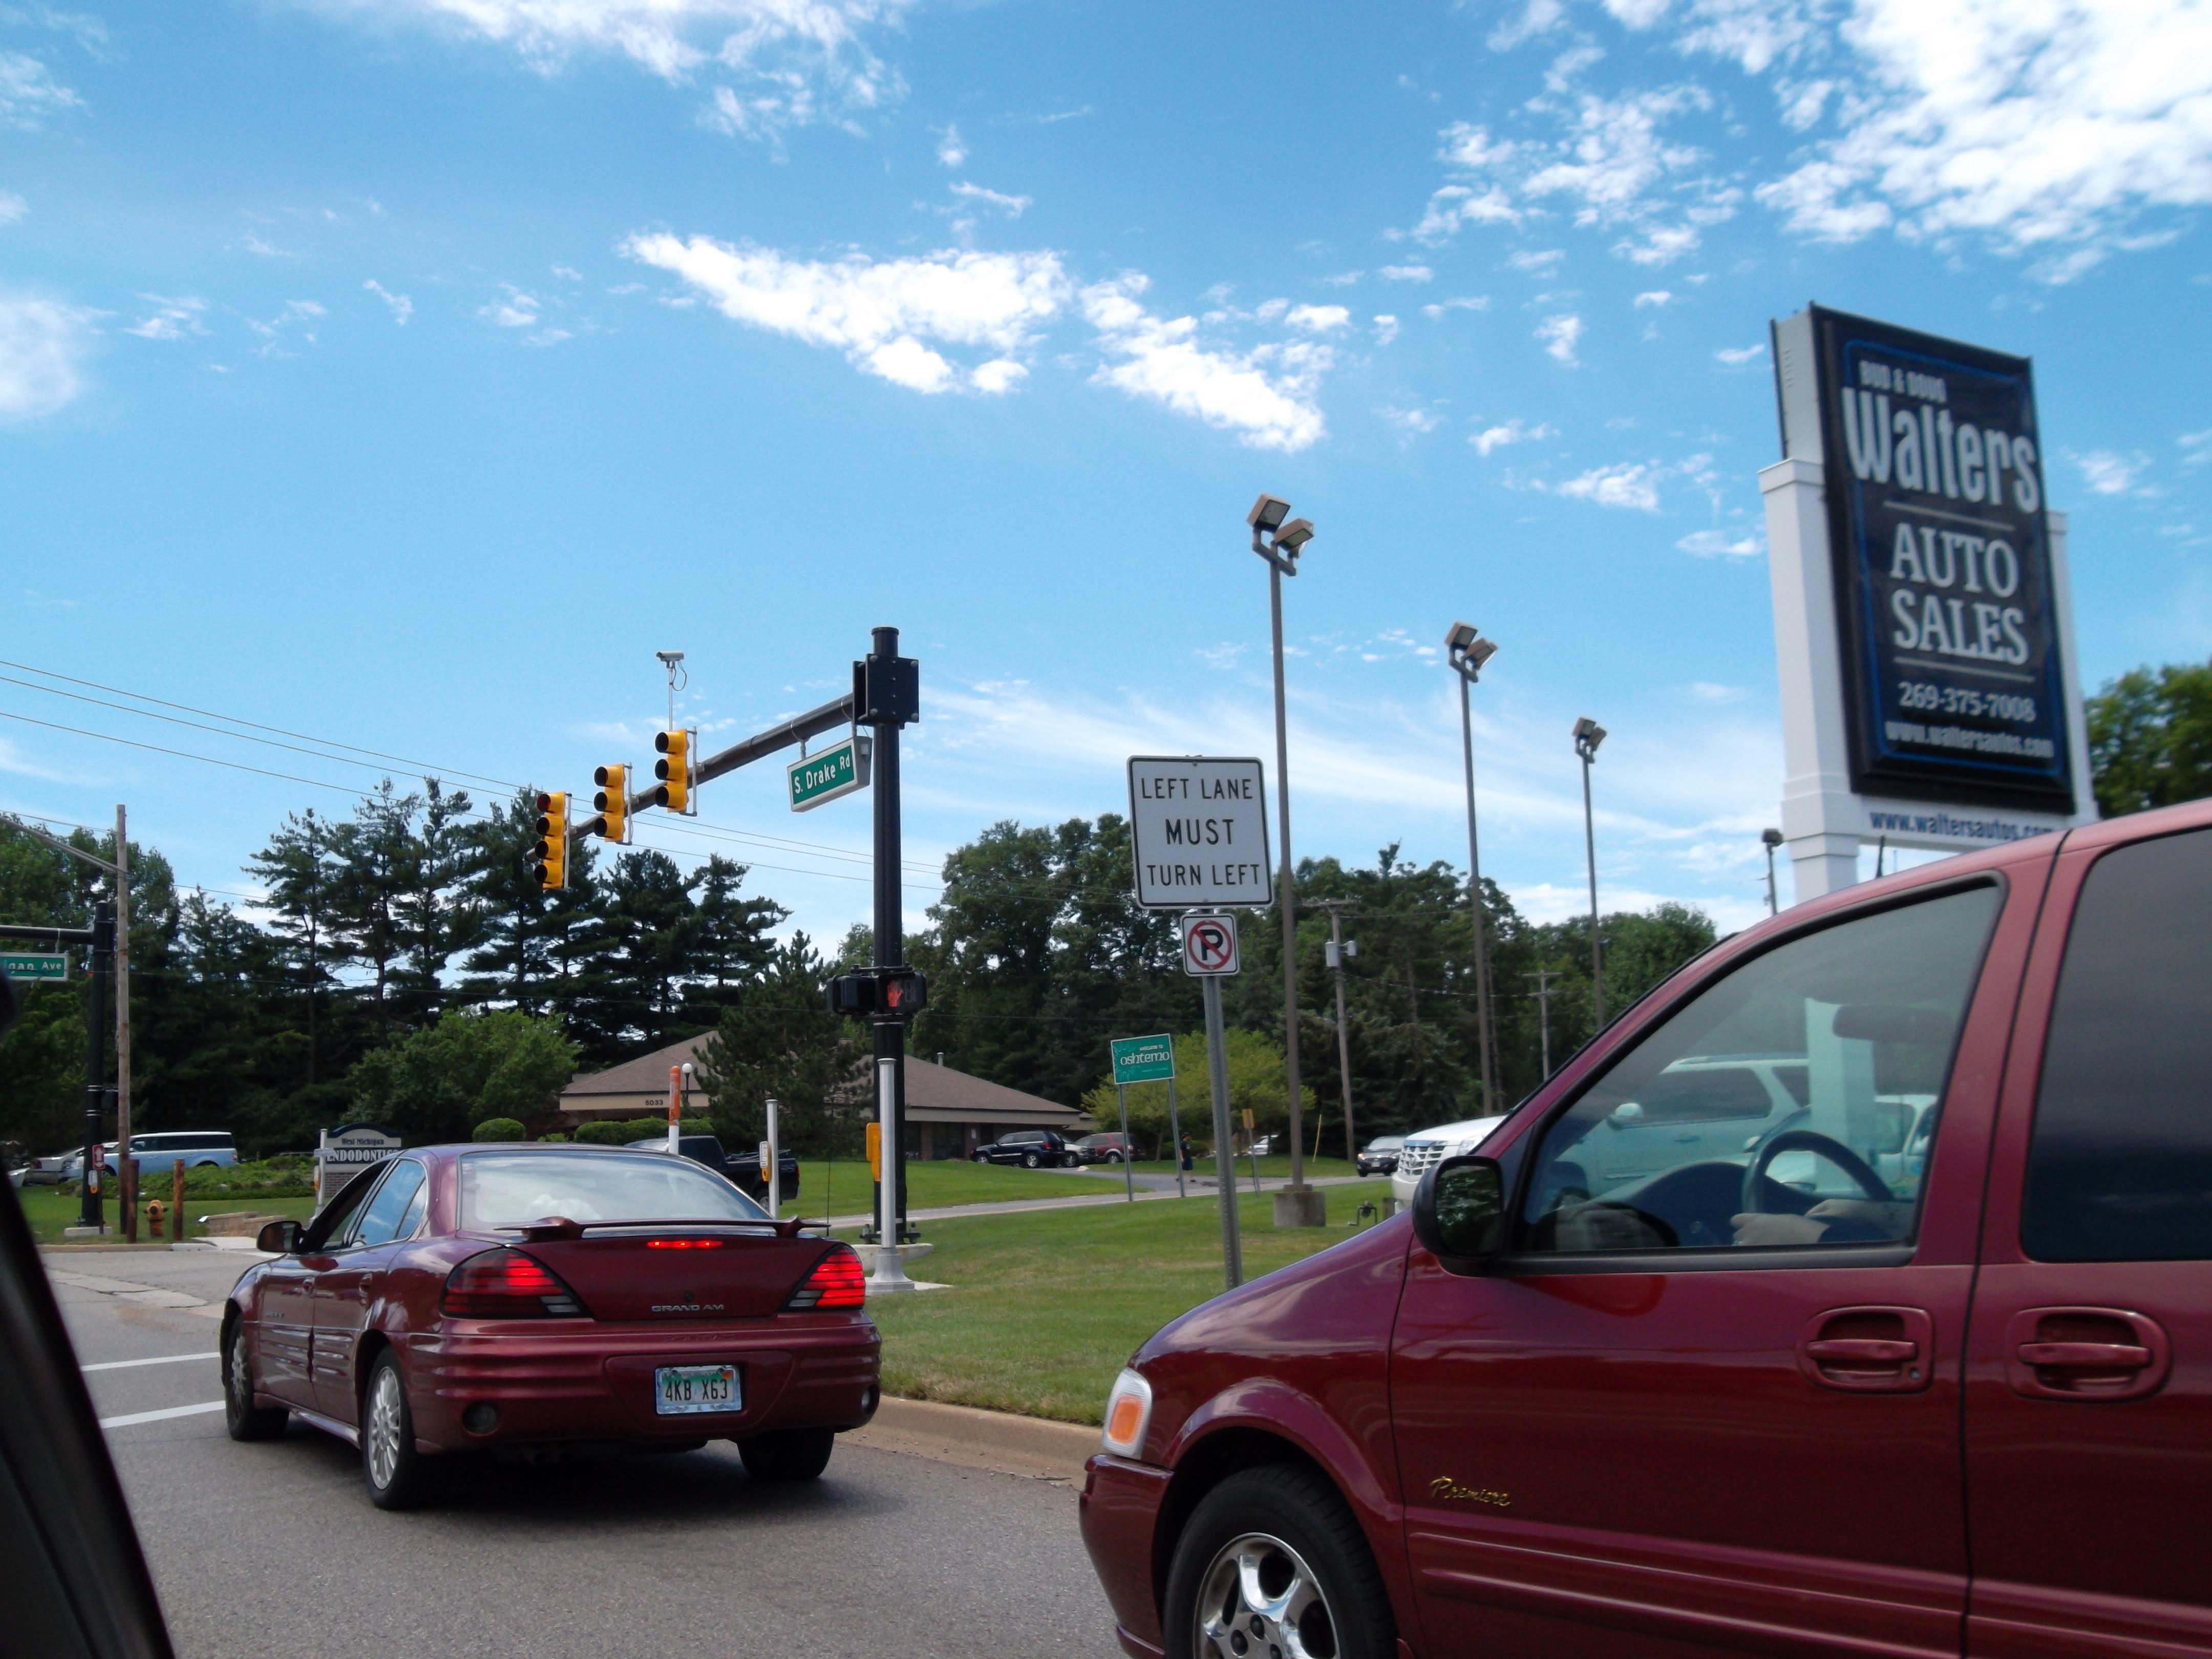regulatory: (1132, 755, 1284, 908), (1177, 899, 1242, 988)
